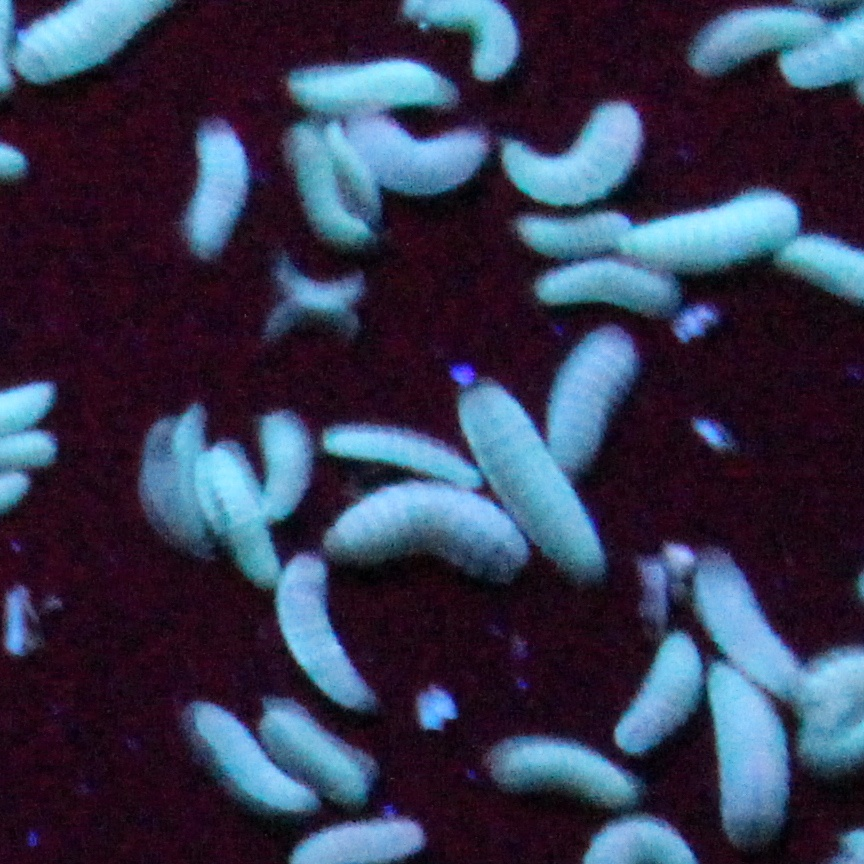larve: (450, 384, 614, 560), (686, 560, 814, 668), (278, 551, 363, 710), (198, 720, 326, 820), (487, 734, 642, 816), (550, 336, 646, 468), (710, 688, 798, 828), (30, 4, 178, 84), (258, 692, 362, 804), (514, 104, 634, 200), (310, 424, 486, 484), (346, 128, 490, 196), (142, 424, 214, 556), (214, 444, 282, 580), (414, 4, 518, 88), (634, 204, 790, 260), (290, 64, 462, 112), (527, 262, 676, 316), (190, 132, 246, 268), (690, 16, 822, 72), (626, 636, 686, 756), (502, 215, 628, 262), (270, 424, 290, 544)
